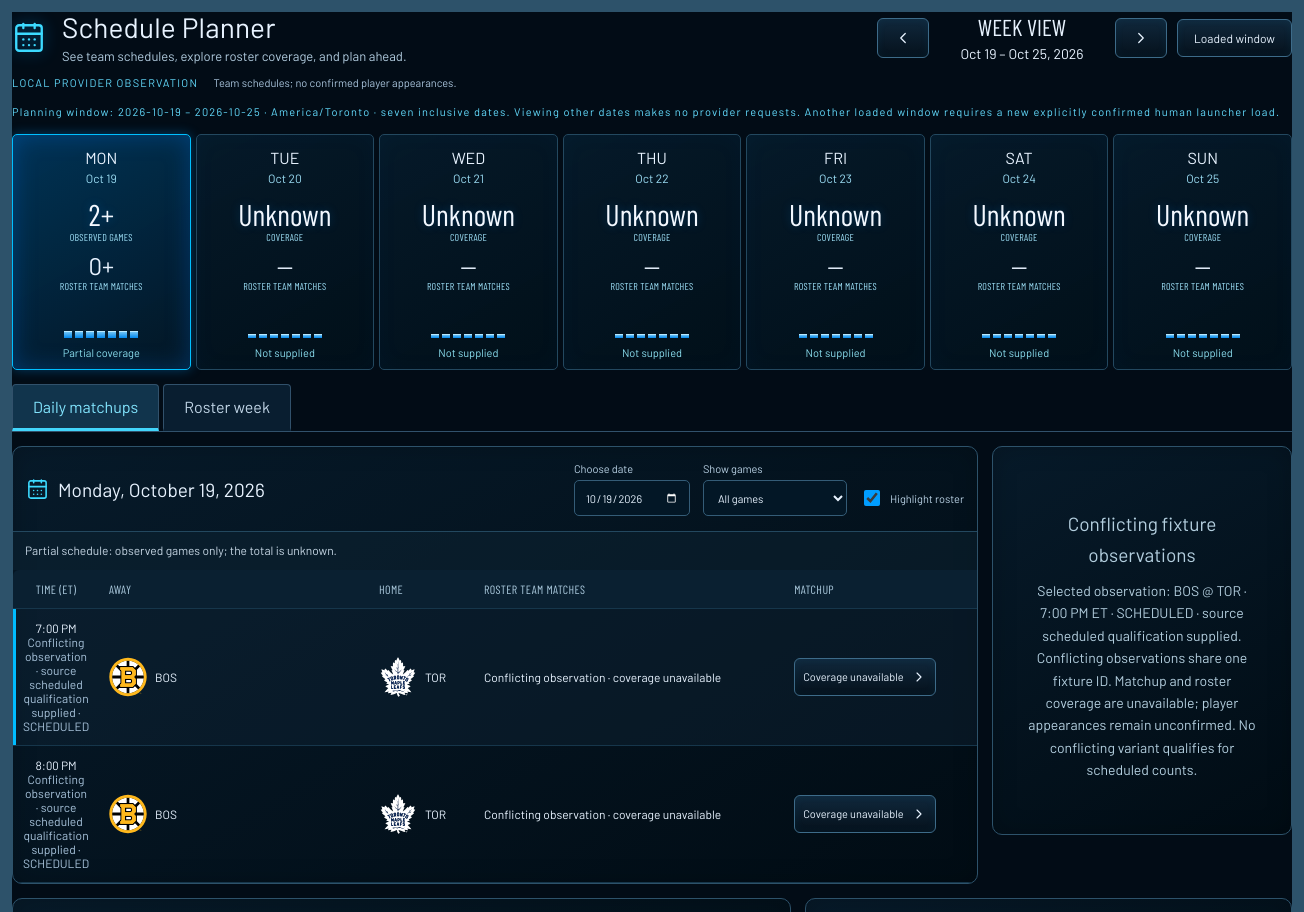
selects one conflicting time variant without presenting arbitrary matchup details
Step 1. Click the button with aria-label "Select" → (865, 814), box [794, 795, 936, 833]
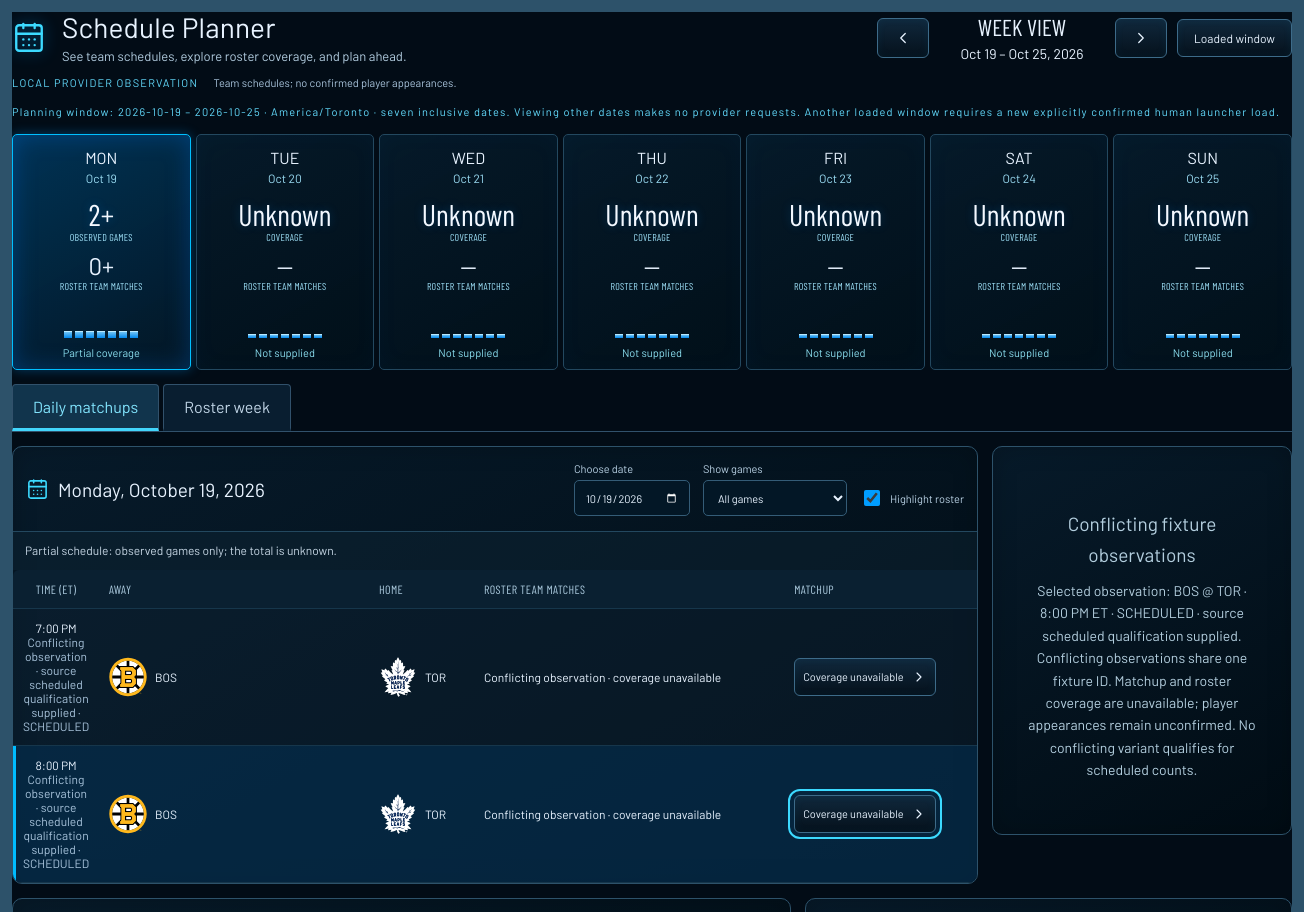
Check: the heading "Conflicting fixture observations" is shown, box [1068, 512, 1216, 566]
Check: the text "8:00 PM" is shown, box [1040, 604, 1089, 622]
